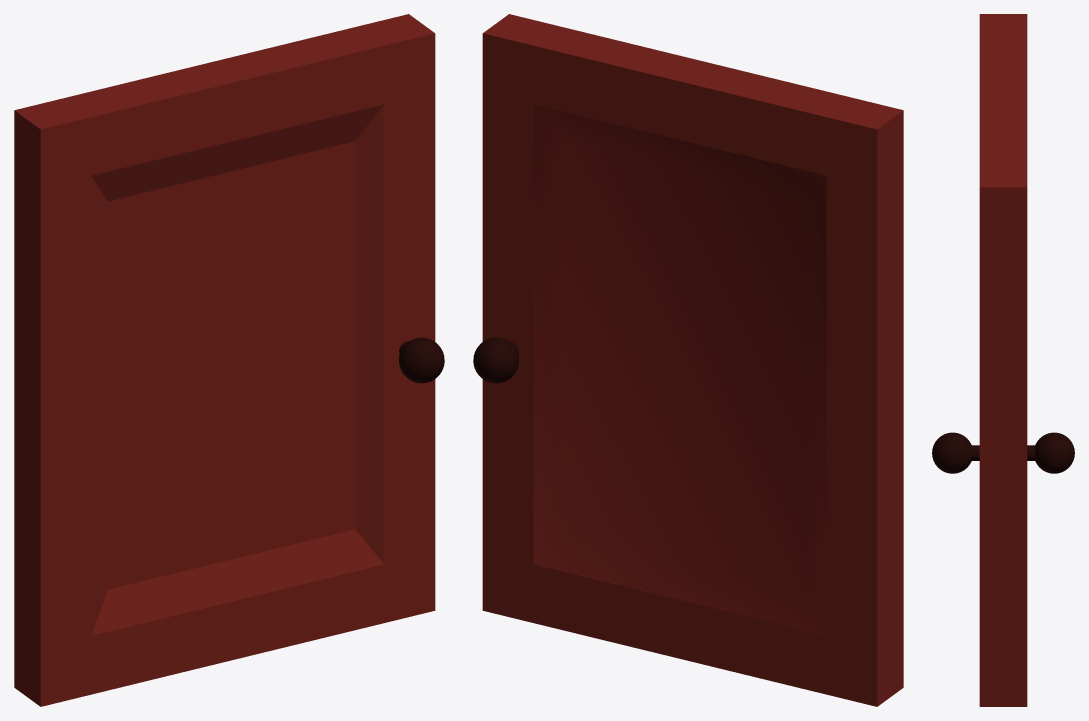
Rendered from 3D_Prop_House-Door.fbx.
3 renders of one model, left to right at view 1: azimuth 30°, elevation 25°; view 2: azimuth 150°, elevation 25°; view 3: azimuth 270°, elevation 25°, orthographic. The views are drawn at different scales.
Parts seen in each view (by area): view 1: Door; view 2: Door; view 3: Door.
Boxes of the visible parts, x1,y1,x2,y2 form: Door: [14, 14, 444, 706]; Door: [473, 14, 903, 706]; Door: [932, 14, 1074, 706].
Size of the model in its own units: 401 by 561 by 140.
